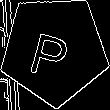P_N: (31, 20, 78, 79)
